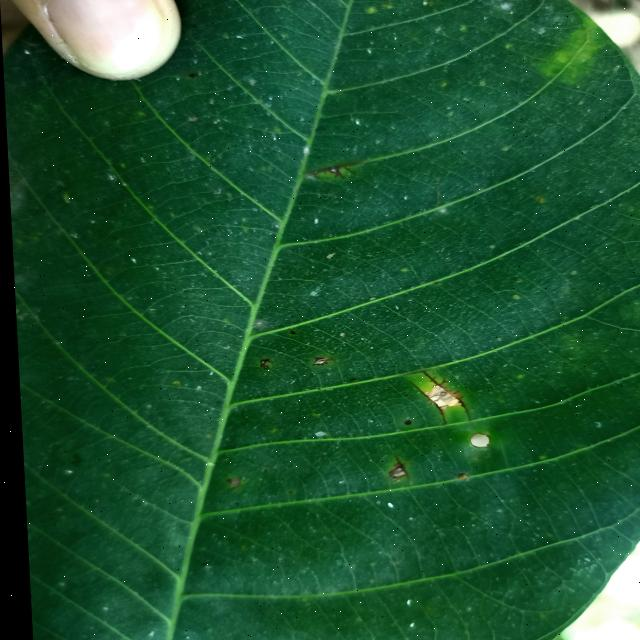Colletotrichum: (399, 420, 407, 426), (287, 331, 292, 335)
Corynespora: (418, 370, 468, 420), (408, 384, 443, 424), (303, 161, 363, 179), (382, 456, 405, 480)
Leaf-Blight: (465, 433, 484, 447)
